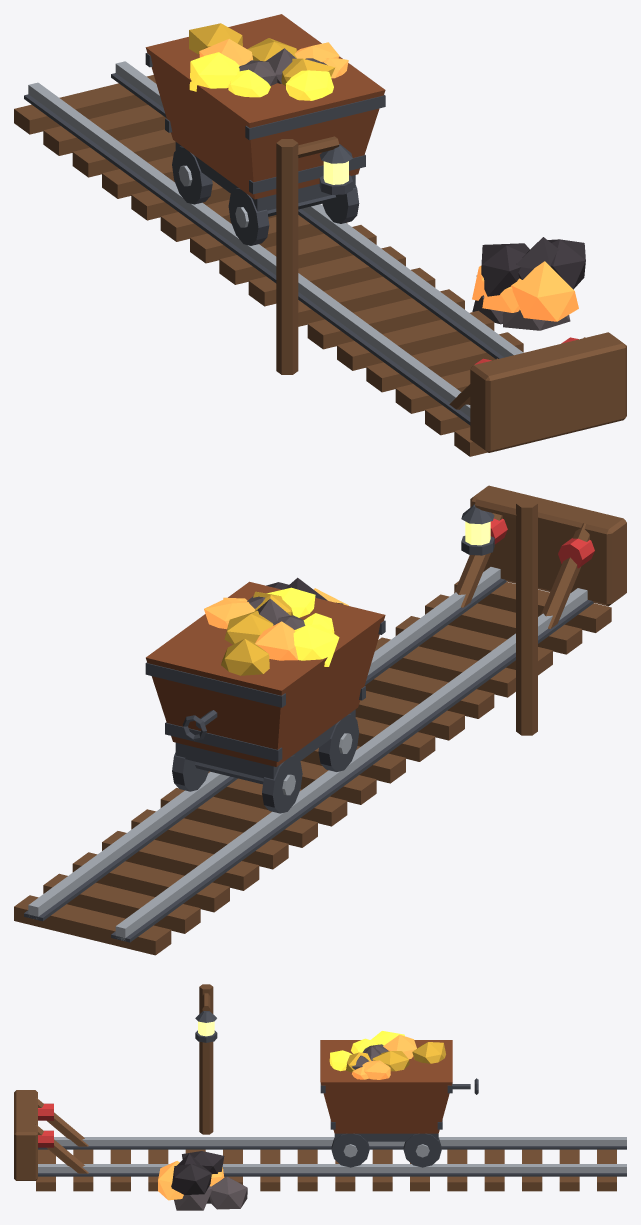
File: MineCart.fbx
3 views of the same model, one above another, from view 1: azimuth 30°, elevation 25°; view 2: azimuth 150°, elevation 25°; view 3: azimuth 270°, elevation 25° (orthographic). The views are drawn at different scales.
Visible parts, largest first — view 1: MineCart_WoodDark, MineCart_Rust, MineCart_DarkMetal, MineCart_Metal, MineCart_Ember, MineCart_Basalt, MineCart_Lava, MineCart_Gold, MineCart_BasaltLight; view 2: MineCart_WoodDark, MineCart_Rust, MineCart_DarkMetal, MineCart_Metal, MineCart_Gold, MineCart_Lava, MineCart_Ember, MineCart_Red, MineCart_BasaltLight; view 3: MineCart_WoodDark, MineCart_Metal, MineCart_Rust, MineCart_DarkMetal, MineCart_BasaltLight, MineCart_Ember, MineCart_Basalt, MineCart_Gold, MineCart_Lava, MineCart_Red.
Boxes of the visible parts, x1,y1,x2,y2 form: MineCart_WoodDark: (14,75,626,456); MineCart_Rust: (145,14,385,199); MineCart_DarkMetal: (24,53,503,425); MineCart_Metal: (28,61,523,417); MineCart_Ember: (199,39,578,321); MineCart_Basalt: (481,237,585,296); MineCart_Lava: (189,52,333,100); MineCart_Gold: (189,23,335,85); MineCart_BasaltLight: (239,48,570,330); MineCart_WoodDark: (14,485,626,955); MineCart_Rust: (146,581,385,766); MineCart_DarkMetal: (24,504,593,942); MineCart_Metal: (28,567,587,940); MineCart_Gold: (221,591,292,675); MineCart_Lava: (267,587,339,666); MineCart_Ember: (204,588,348,660); MineCart_Red: (490,518,594,568); MineCart_BasaltLight: (247,596,305,629); MineCart_WoodDark: (14,984,616,1191); MineCart_Metal: (38,1137,626,1172); MineCart_Rust: (320,1040,452,1133); MineCart_DarkMetal: (38,1011,626,1176); MineCart_BasaltLight: (174,1044,388,1210); MineCart_Ember: (158,1034,416,1200); MineCart_Basalt: (171,1151,224,1194); MineCart_Gold: (346,1042,445,1072); MineCart_Lava: (329,1031,404,1071); MineCart_Red: (38,1103,53,1147).
Size of the model in its own units: 10.91 by 8 by 30.6.
